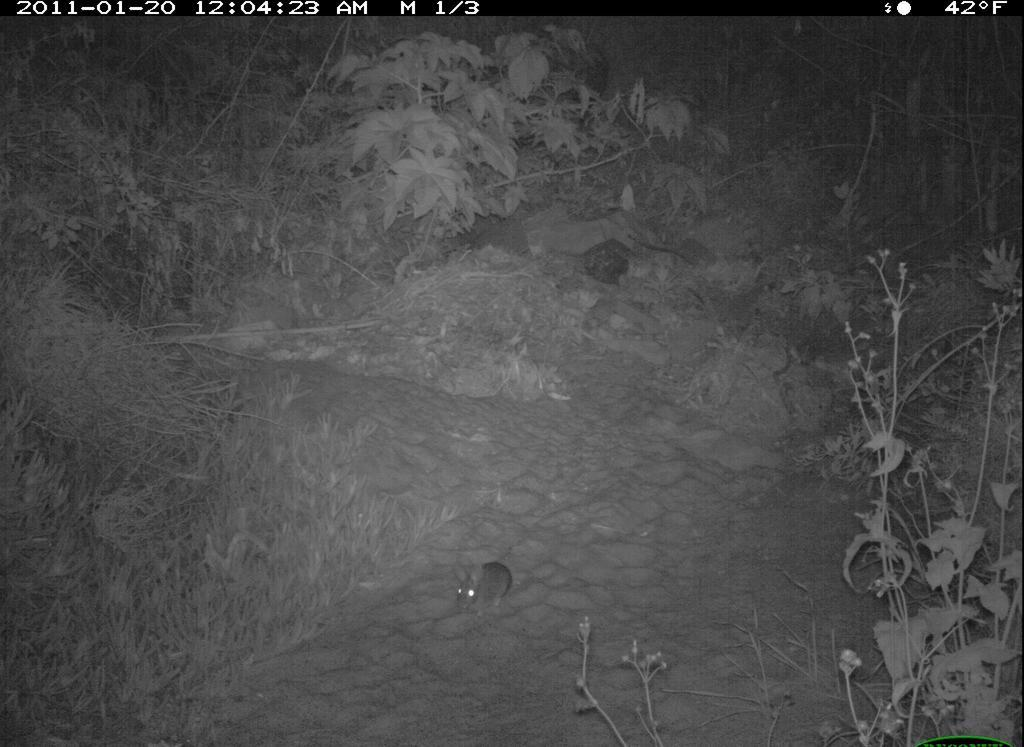rabbit: (445, 553, 521, 624)
